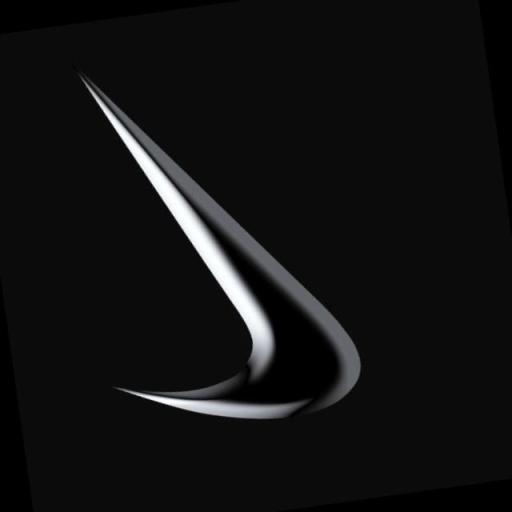Nike: (74, 38, 364, 438)
